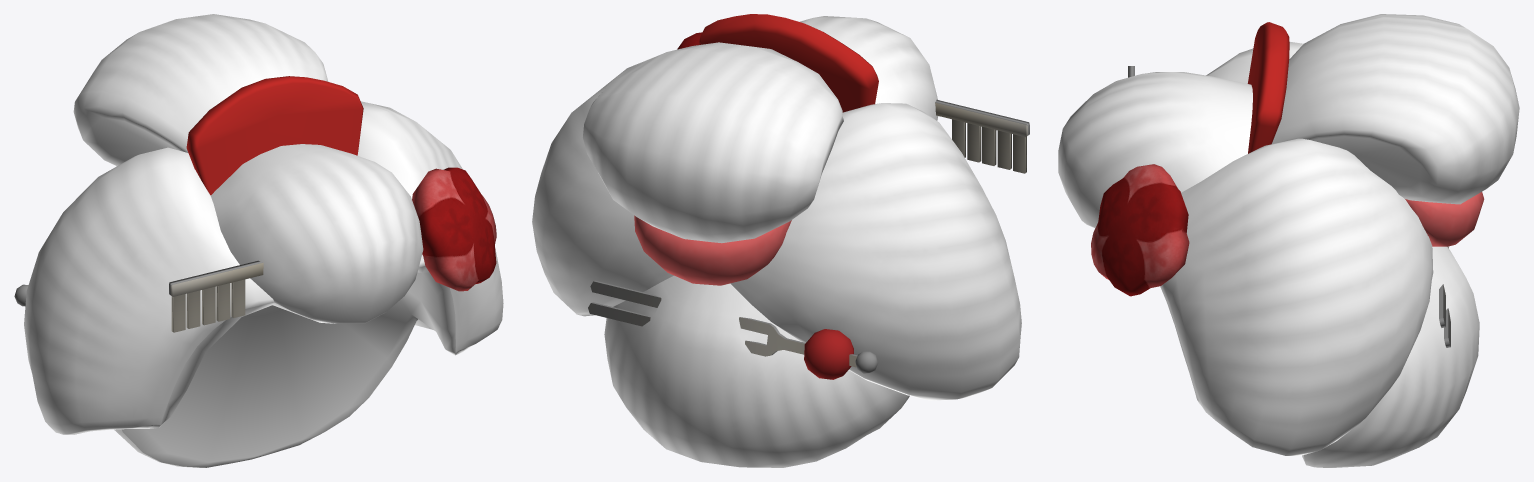
File: CapWigGeisya0.glb
3 renders of one model, left to right at view 1: azimuth 30°, elevation 25°; view 2: azimuth 150°, elevation 25°; view 3: azimuth 270°, elevation 25°, orthographic. The views are drawn at different scales.
Visible parts, largest first — view 1: BodyHair__mCapHair, Body__mCap; view 2: BodyHair__mCapHair, Body__mCap; view 3: BodyHair__mCapHair, Body__mCap.
Boxes of the visible parts, left/top/right/bottom form: BodyHair__mCapHair: left=24, top=14, right=503, bottom=467; Body__mCap: left=14, top=76, right=496, bottom=332; BodyHair__mCapHair: left=532, top=16, right=1021, bottom=467; Body__mCap: left=588, top=14, right=1029, bottom=379; BodyHair__mCapHair: left=1058, top=14, right=1519, bottom=467; Body__mCap: left=1091, top=22, right=1484, bottom=347.
Bounding box in the file's own units: 9.67 × 8.25 × 8.34.
2 materials, 2 textured.
